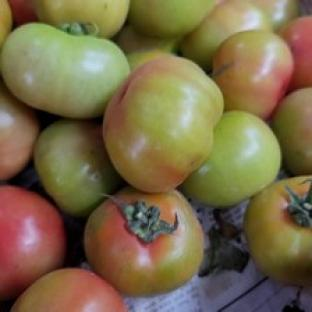Tomato: (104, 55, 222, 192), (84, 187, 204, 296), (0, 23, 129, 118), (180, 112, 281, 207), (34, 119, 122, 217), (0, 186, 66, 300), (244, 176, 311, 285), (212, 30, 293, 119), (10, 268, 128, 311), (0, 81, 40, 179), (271, 87, 311, 175), (279, 16, 311, 91), (115, 24, 179, 54)
